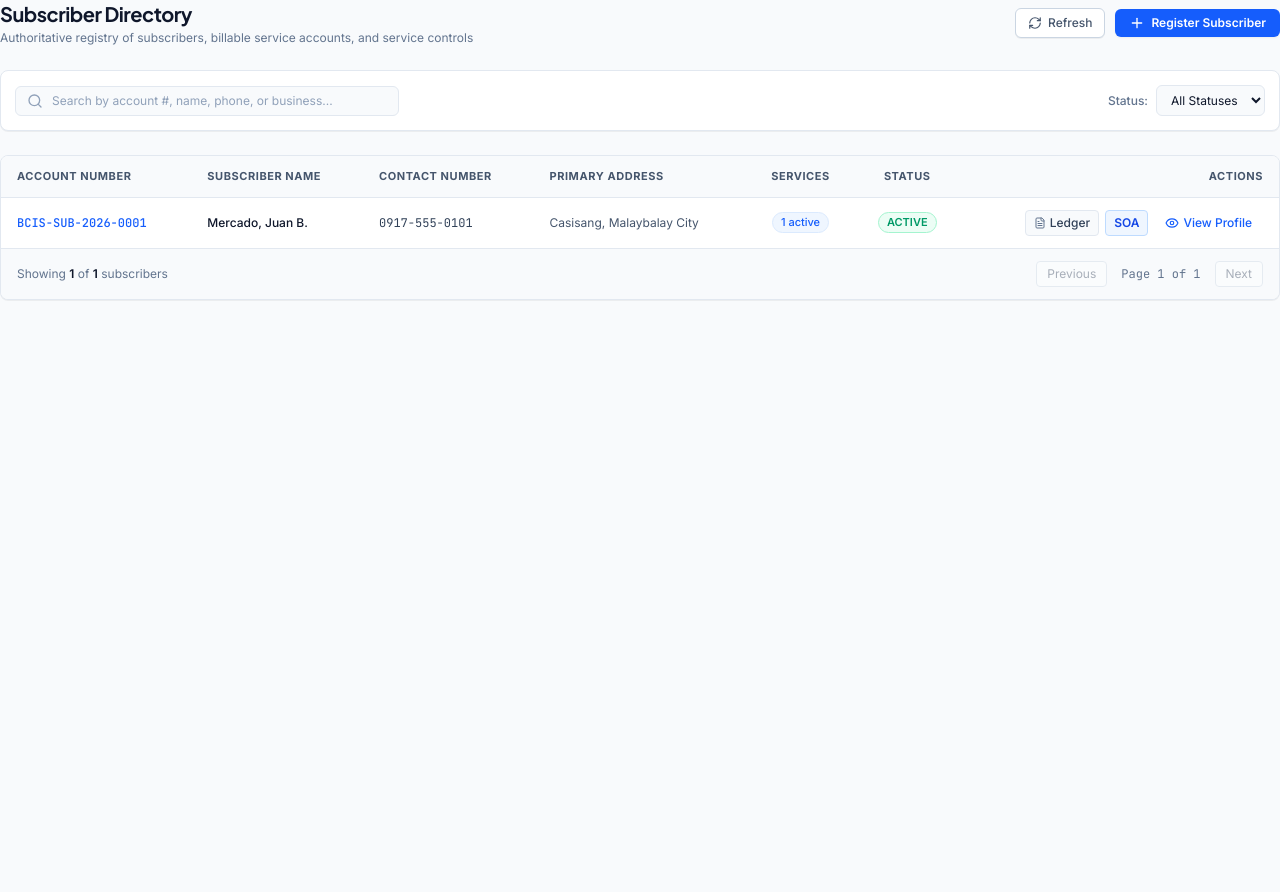
SubscribersPage Component (Phase 2) › opens subscriber profile drawer upon clicking View Profile
Expected: the button "BCIS-SUB-2026-0001" is shown, [17,214,147,230]
Click the button "View Profile" at (1209, 222), box [1154,210,1263,236]
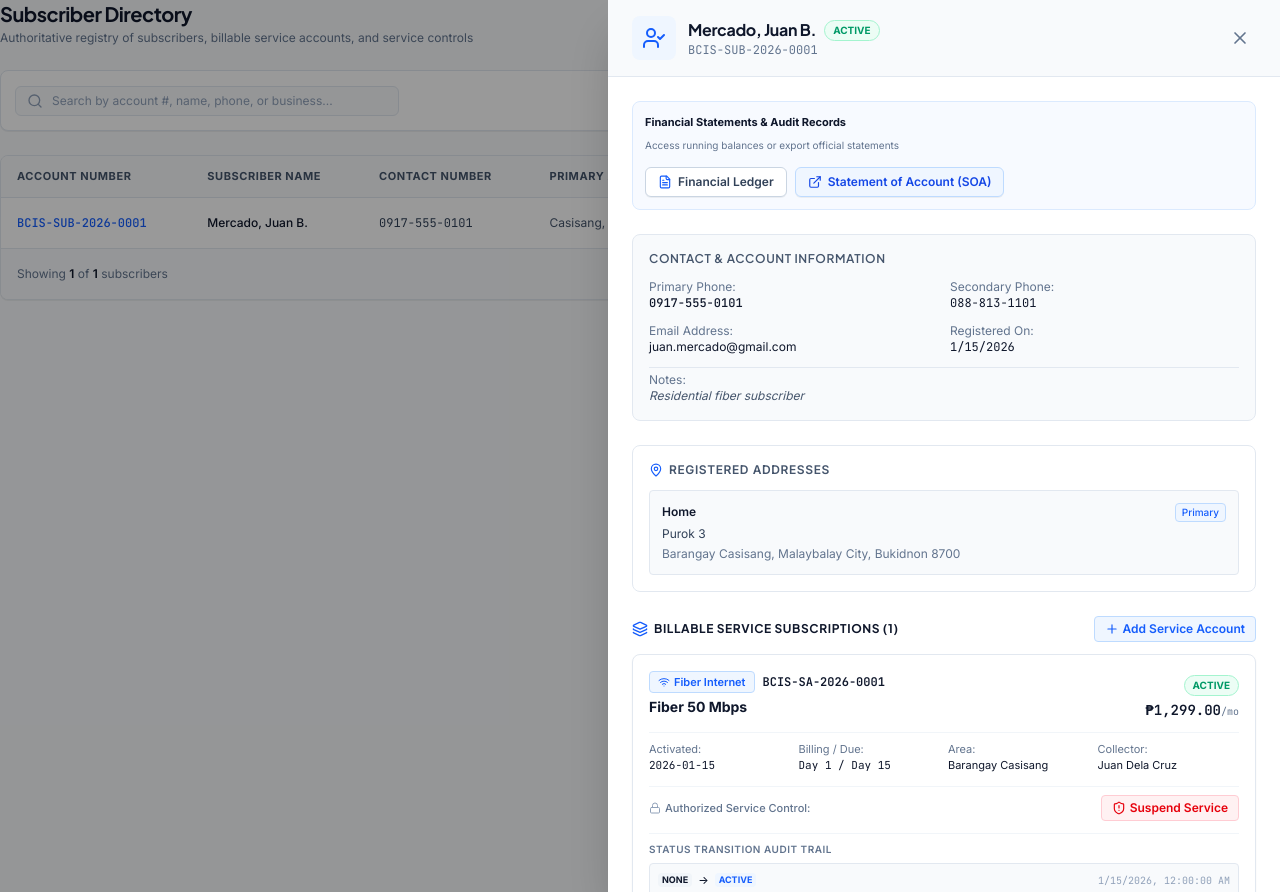
Now the heading "Contact & Account Information" is shown, box [649,250,886,266]
Now the text "juan.mercado@gmail.com" is shown, box [649,338,796,354]
Now the text "Residential fiber subscriber" is shown, box [649,388,804,402]
